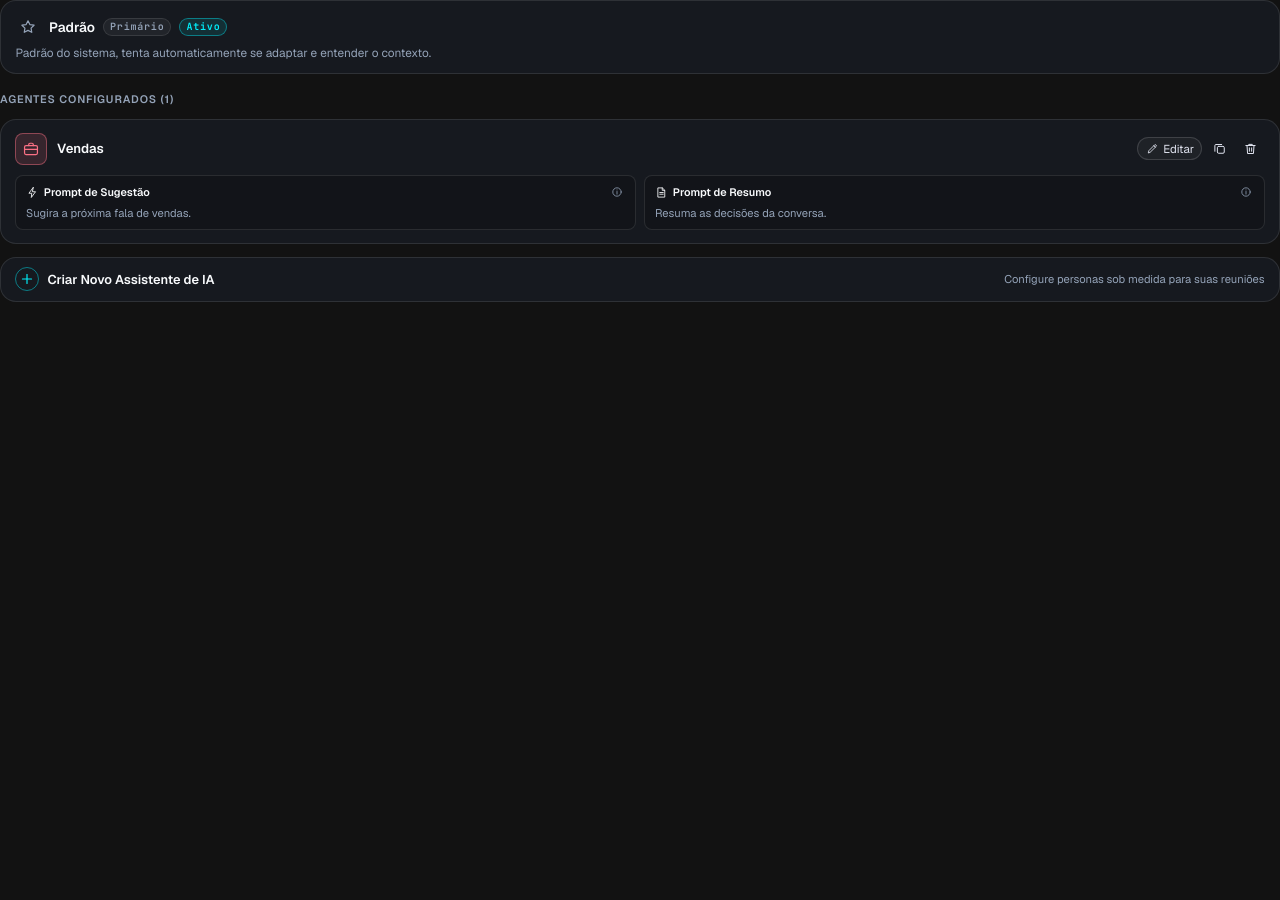
Test: AssistantsSettings › duplica um agente com o nome de cópia
Step 1. Click the button named "Duplicar agente Vendas" → click(1219, 149), box [1205,135,1233,163]
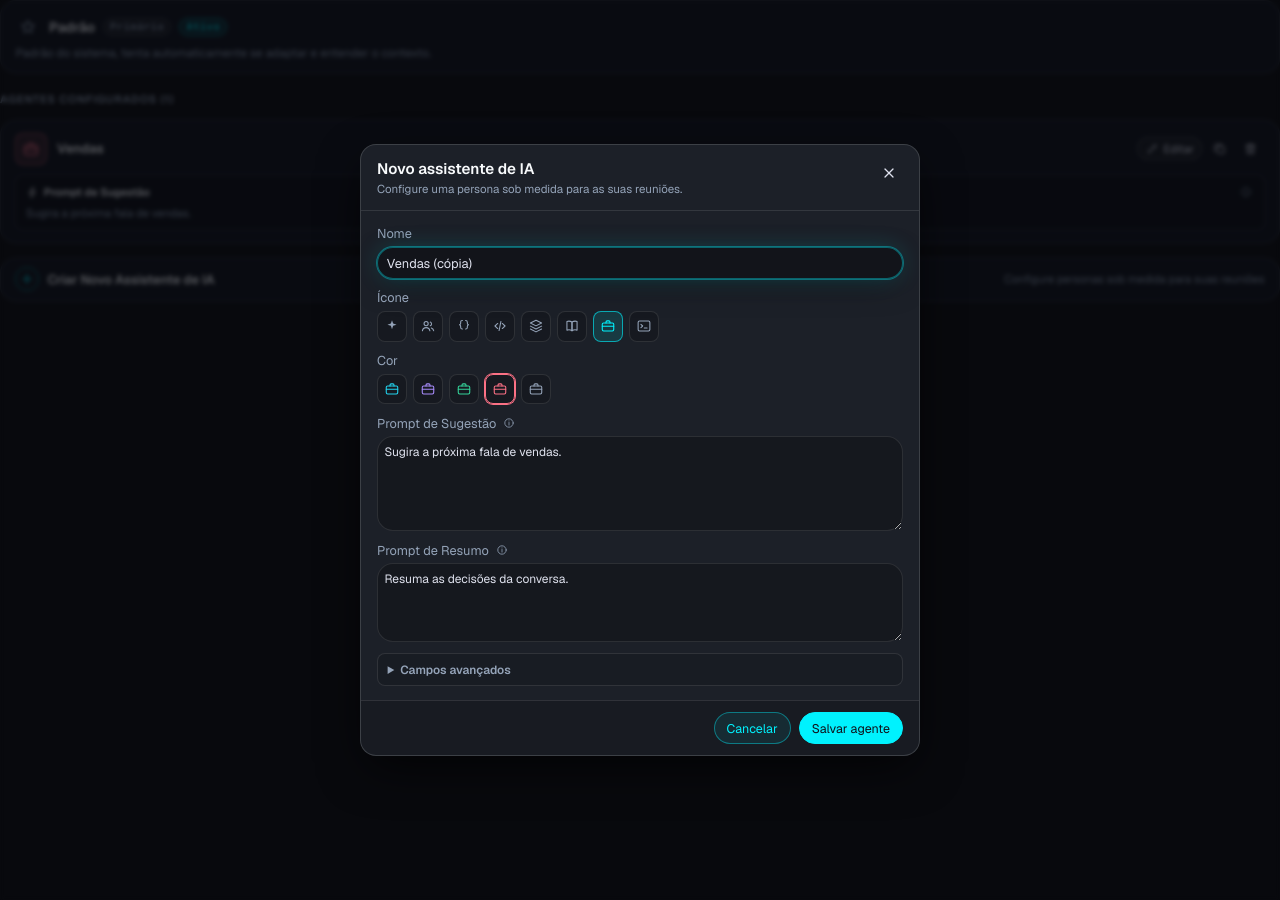
expect the field labelled "Nome" holds "Vendas (cópia)": met, box [377,247,903,279]
expect the dialog "Novo assistente de IA" is shown: met, box [360,144,920,756]
